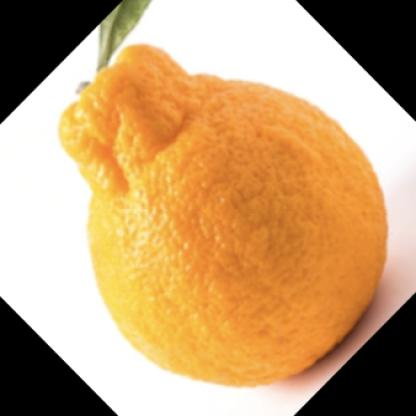fresh: (58, 45, 389, 387)
